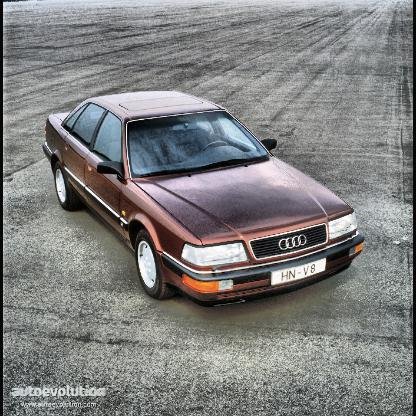Audi V8 Sedan 1994: (41, 91, 365, 312)
